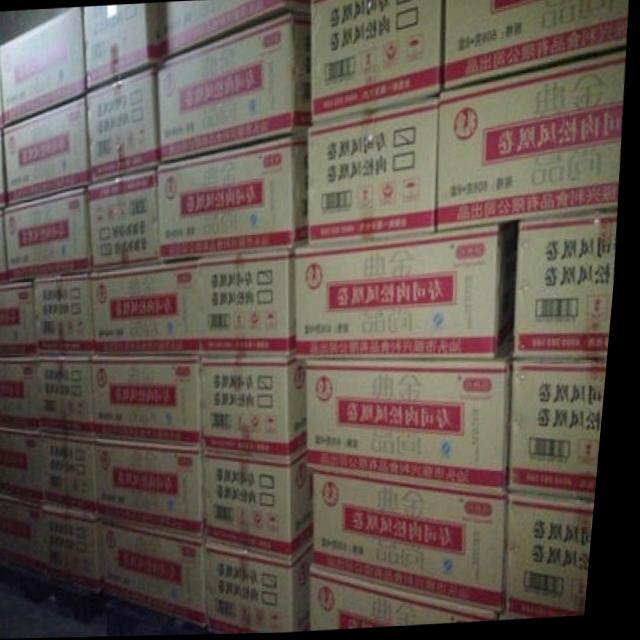box: (441, 50, 626, 231), (298, 226, 519, 361), (313, 348, 518, 493), (320, 476, 516, 612), (160, 11, 312, 164), (310, 99, 441, 247), (159, 138, 312, 258), (309, 0, 445, 126), (444, 0, 628, 90), (519, 213, 621, 363), (517, 365, 614, 506), (0, 491, 113, 602), (109, 516, 215, 631), (321, 566, 513, 629), (202, 248, 308, 361), (212, 449, 319, 560), (103, 438, 216, 537), (206, 359, 314, 460), (98, 353, 210, 447), (516, 498, 604, 616), (96, 261, 204, 355), (0, 8, 86, 125), (5, 97, 94, 206), (216, 539, 320, 632), (157, 0, 309, 60), (88, 69, 163, 183), (8, 187, 98, 281), (91, 169, 166, 271), (82, 3, 163, 91), (43, 355, 104, 438), (47, 430, 106, 514), (39, 275, 98, 358), (0, 427, 53, 503), (0, 278, 40, 358), (0, 359, 43, 431), (0, 211, 15, 283), (0, 128, 11, 207), (0, 64, 6, 128), (510, 612, 545, 622)
